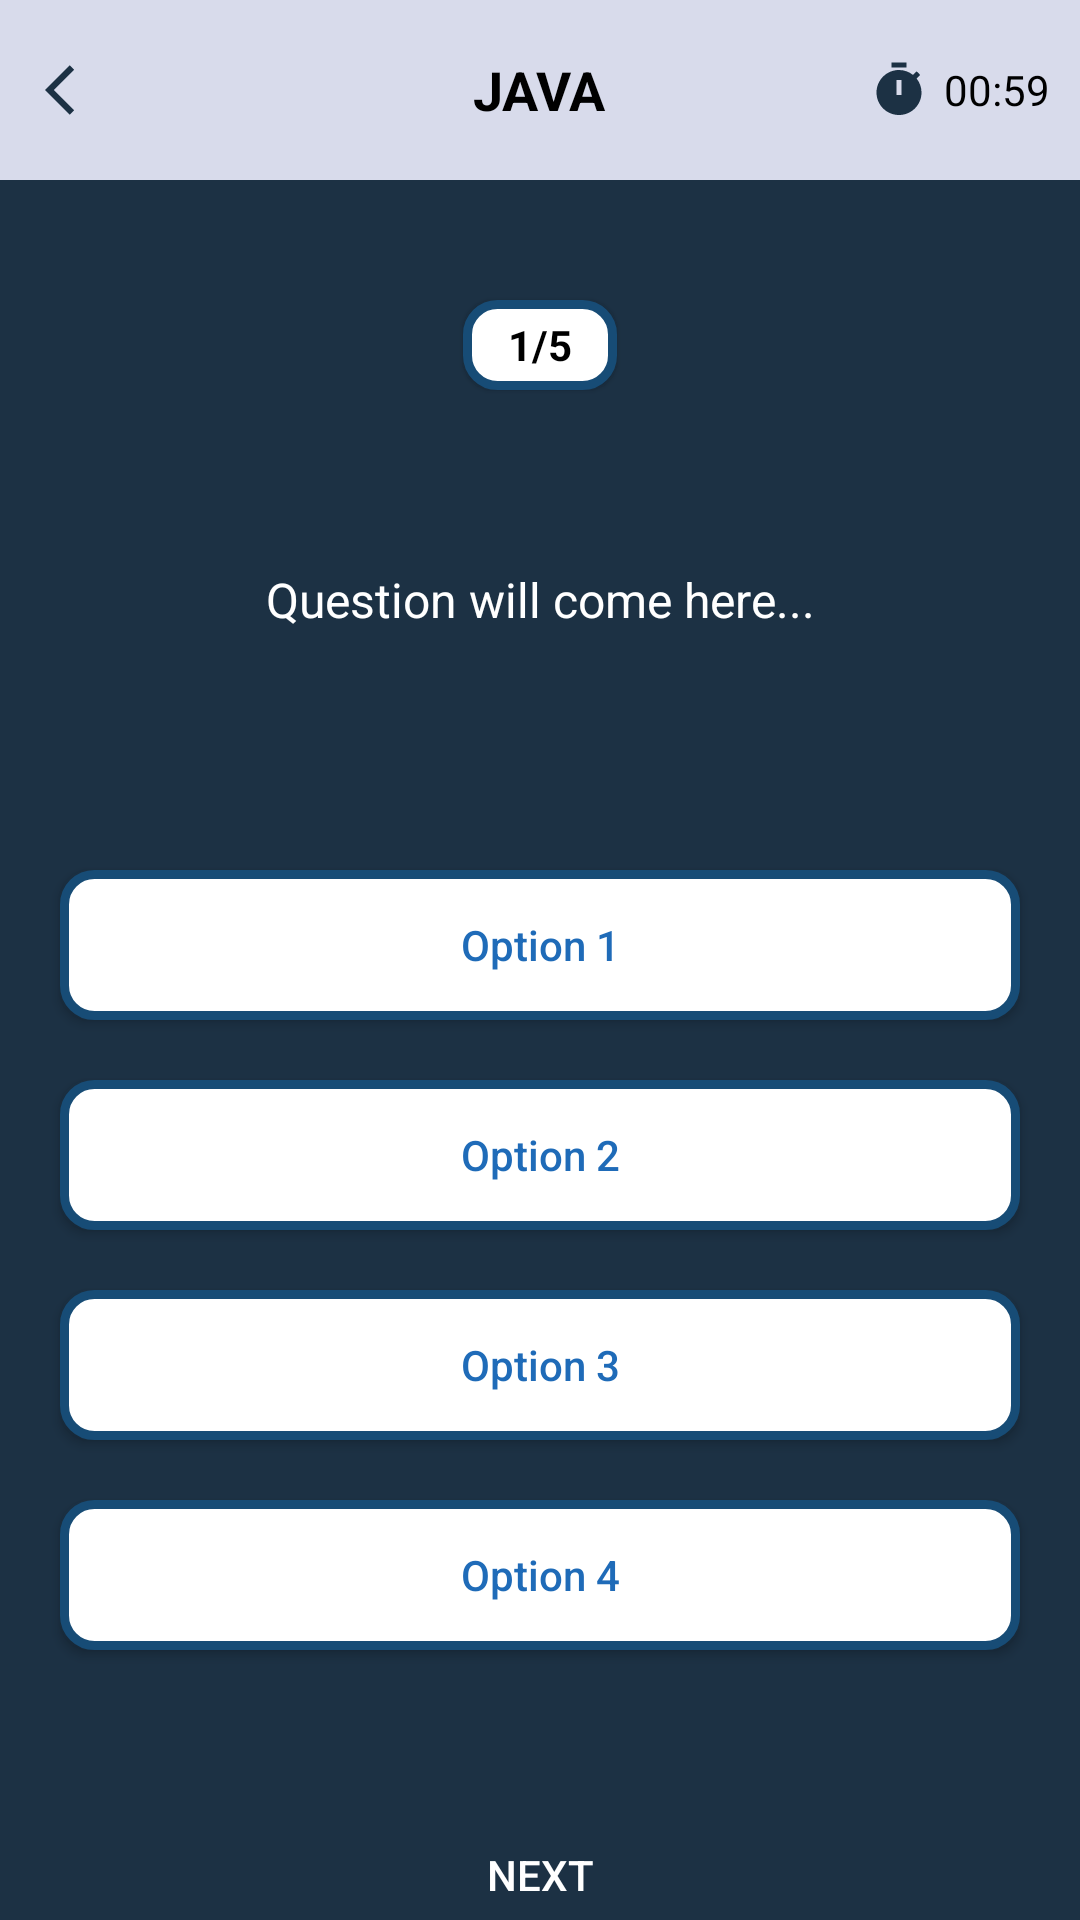

Icons on this 1080 x 1920 Android screen, each with the point to tap as (x=x, y=y):
back: (x=59, y=90)
timer: (x=899, y=88)
